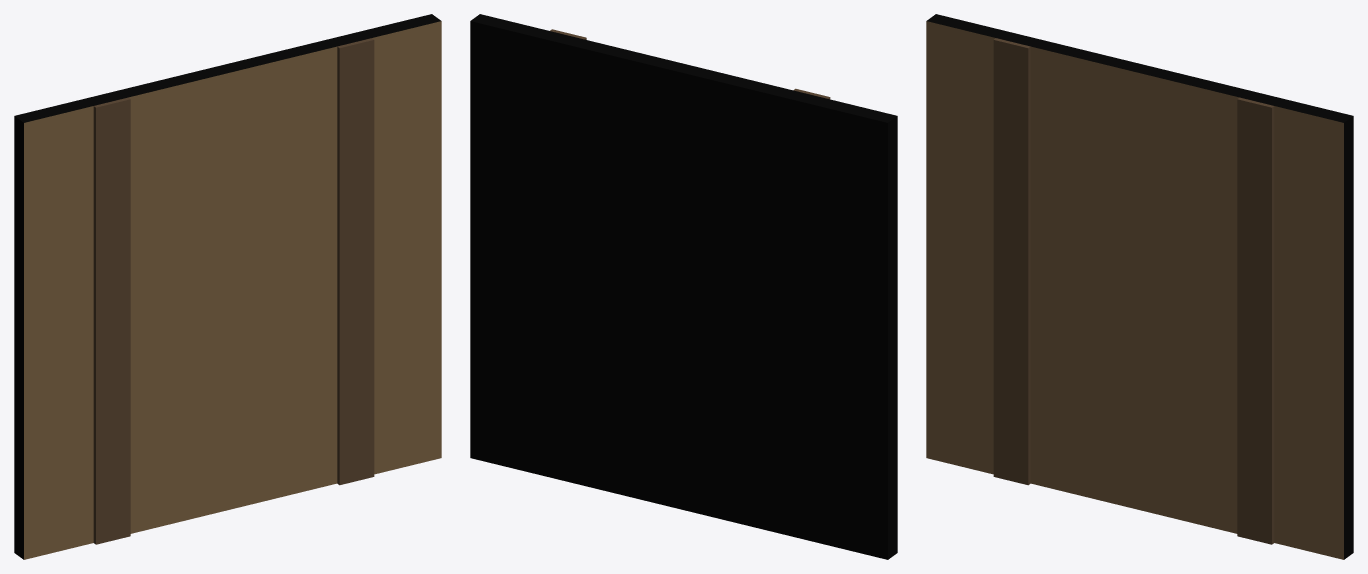
File: M_Wall_Big_Relief.fbx
3 renders of one model, left to right at view 1: azimuth 30°, elevation 25°; view 2: azimuth 150°, elevation 25°; view 3: azimuth 330°, elevation 25°, orthographic.
Visible parts, largest first — view 1: M_Wall_Big_Relief; view 2: M_Wall_Big_Relief; view 3: M_Wall_Big_Relief.
Part boxes in pixels (x1,y1,x2,y2): M_Wall_Big_Relief: (14, 14, 441, 559); M_Wall_Big_Relief: (470, 14, 897, 559); M_Wall_Big_Relief: (926, 14, 1353, 559).
Size of the model in its own units: 500 by 500 by 25.
